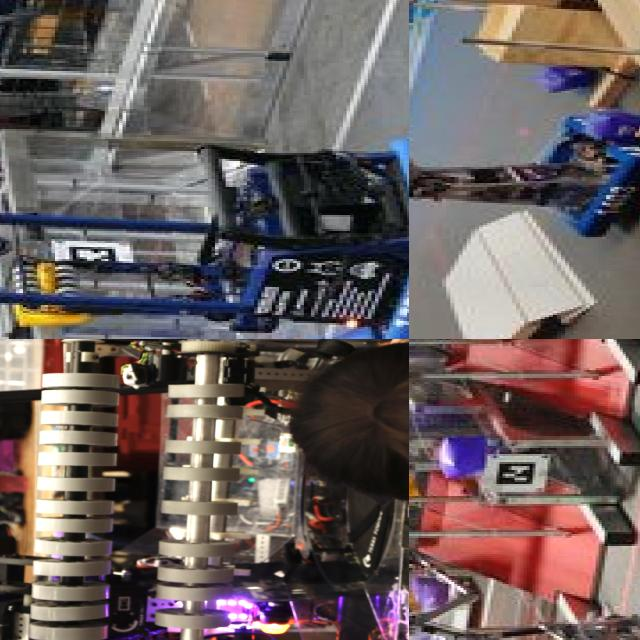FRC-Robots: (0, 339, 409, 640), (0, 120, 409, 339), (409, 0, 640, 231), (409, 497, 640, 640)
